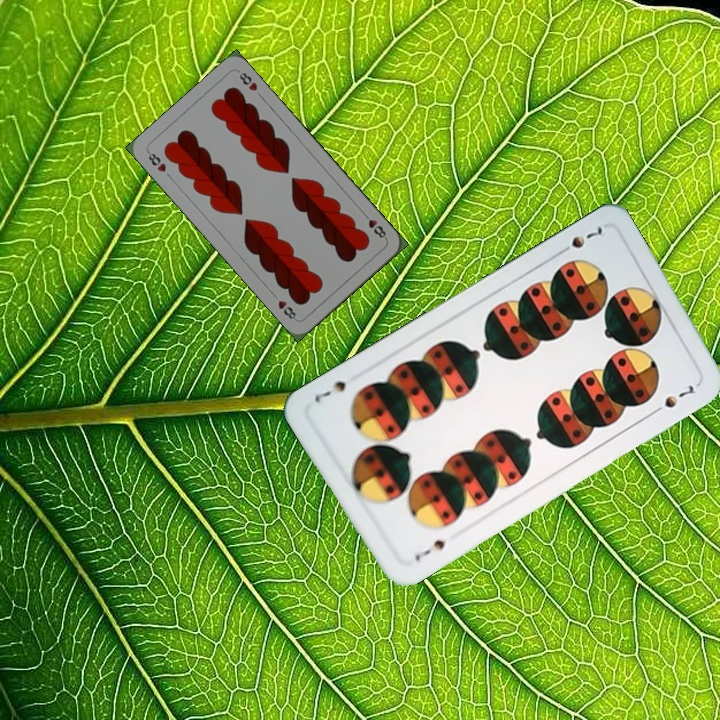H8: (359, 209, 389, 242), (143, 147, 169, 175)
S7: (553, 223, 605, 259), (411, 535, 448, 564)
